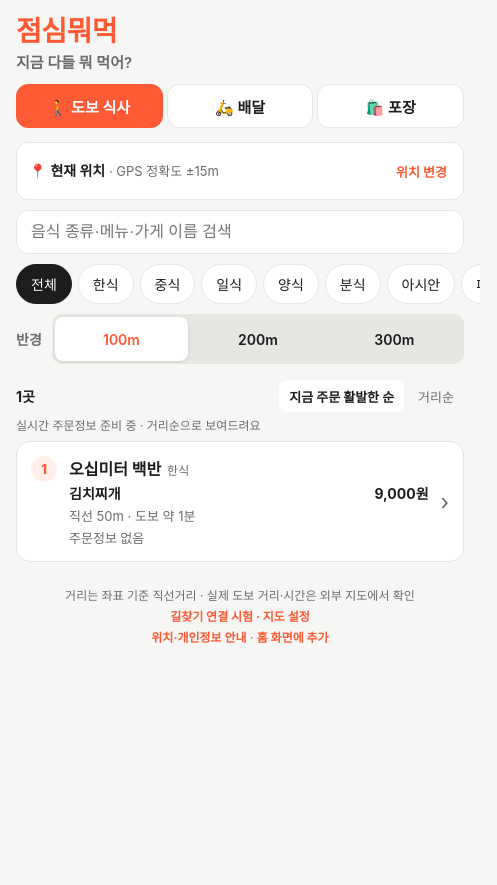
Test: 6단계 — 지금 주문 활발한 순 (서버 순위) › 기본은 지금 주문 활발한 순: 주문 데이터 매장이 먼저, 나머지는 따로 거리순 · 거리순으로 바꿀 수 있음
Click the radio button labelled "300m" at (394, 339), box [328,317,461,361]
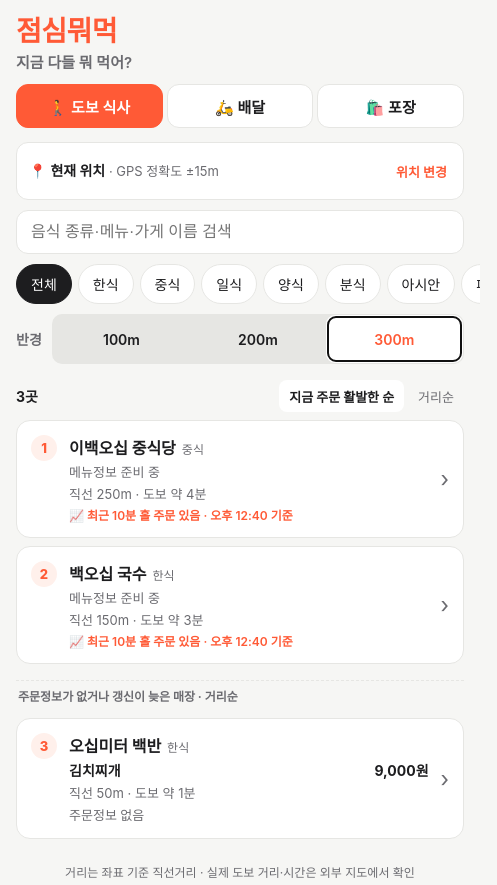
Check: the list item "주문정보가 없거나 갱신이 늦은 매장 · 거리순" is shown, box [16,680,464,710]
Check: the text "실시간 주문정보 준비 중 · 거리순으로 보여드려요" is gone
Check: the button "이백오십 중식당" shows "📈 최근 10분 홀 주문 있음 · 오후 12:40 기준", box [17,421,463,537]
Click the radio button labelled "거리순" at (436, 396), box [408,380,464,412]
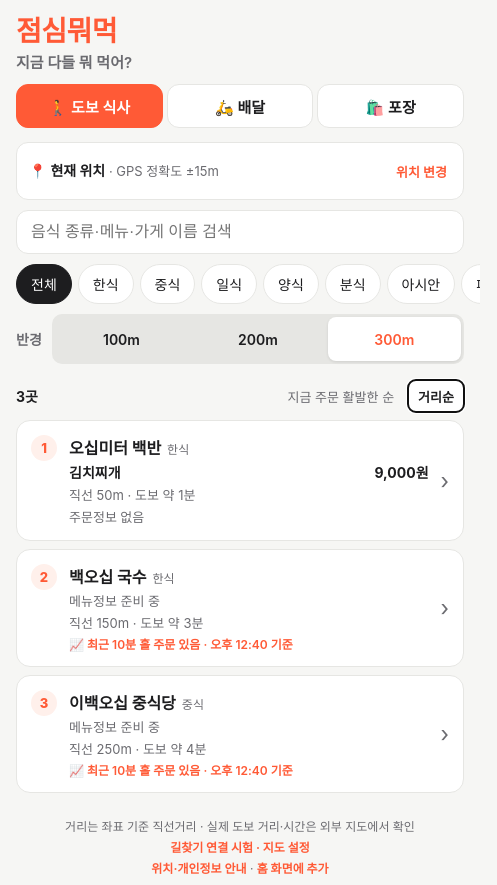
Check: the list item "주문정보가 없거나 갱신이 늦은 매장 · 거리순" is gone
